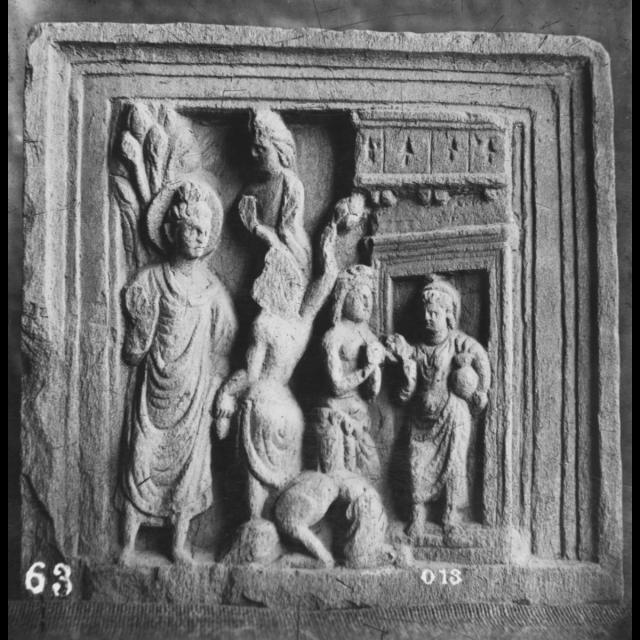buddha-standing: (122, 164, 235, 566)
